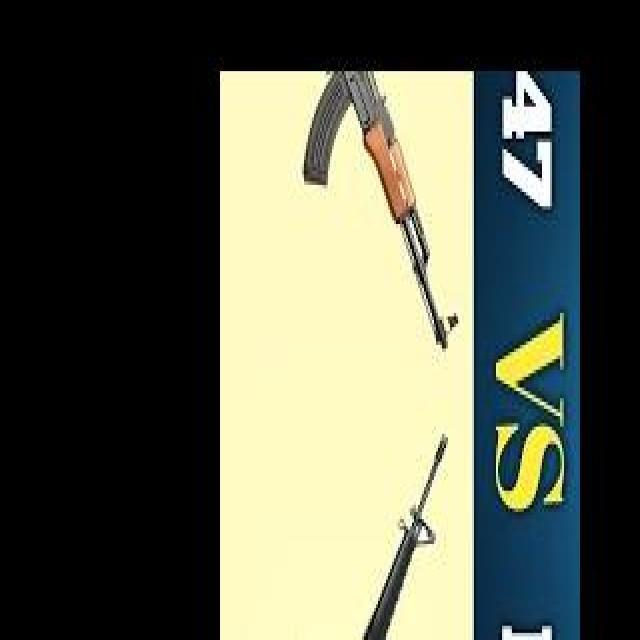weapon: (302, 73, 460, 353), (330, 431, 450, 640)
